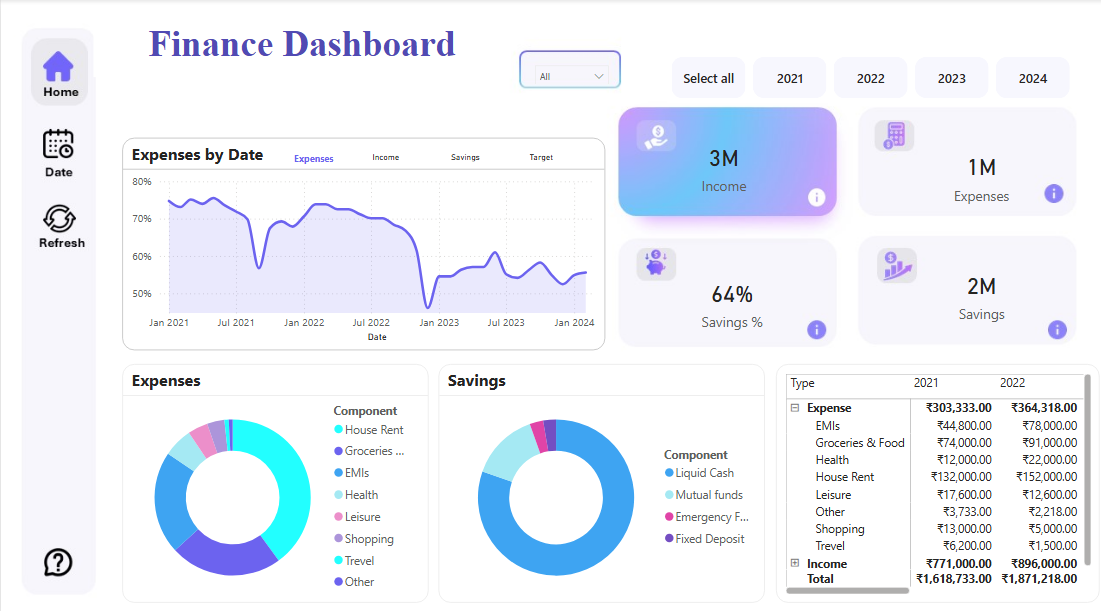

The dashboard page shown, as its layout file describes it:
{"tool":"powerbi","page":{"name":"HOME","canvas":[1280,720],"ordinal":0},"visuals":[{"type":"card","fields":{"Values":["Finance.Expenses"]},"box":[1094.1,164.8,85.7,79.1],"z":0},{"type":"card","fields":{"Values":["Finance.Income"]},"box":[795.2,158.3,85.7,71.3],"z":1000},{"type":"card","fields":{"Values":["Finance.Savings %"]},"box":[786.7,296.2,121.6,111.2],"z":2000},{"type":"card","fields":{"Values":["Finance.Savings"]},"box":[1072.5,286.4,129.5,109.9],"z":3000},{"type":"advancedSlicerVisual","fields":{"Values":["Finance.Year"]},"box":[772.3,62.1,472.8,58.2],"z":4000},{"type":"donutChart","title":"Savings","fields":{"Category":["Finance.Component"],"Y":["Finance.Savings"]},"box":[506.8,423.8,378.6,276.6],"z":5000},{"type":"donutChart","title":"Expenses","fields":{"Category":["Finance.Component"],"Y":["Finance.Expenses"]},"box":[141.3,423.1,355.1,276.6],"z":6000},{"type":"pivotTable","fields":{"Rows":["Finance.Type","Finance.Component"],"Values":["Finance.Total Value"],"Columns":["Finance.Year"]},"box":[897.9,423.8,375.4,276.6],"z":7000},{"type":"areaChart","fields":{"Category":["Finance.Date"],"Y":["Finance.Line_Chart_Measures"]},"box":[141.3,160.9,559.8,246.5],"z":8000},{"type":"advancedSlicerVisual","fields":{"Values":["Line Selection Table.Type"]},"box":[322.4,165.5,368.8,28.8],"z":9000},{"type":"textbox","box":[107.1,22.5,483.8,69.1],"z":10000},{"type":"slicer","fields":{"Values":["Finance.Month-Yr"]},"box":[608.2,67.4,105.9,32],"z":11000},{"type":"actionButton","box":[26.8,145.7,81.6,67.9],"z":12000},{"type":"actionButton","box":[26.8,237.3,81.3,64.6],"z":14000}]}

Visuals, with their boxes on the page's 1280x720 design canvas (x1, y1, x2, y2). These are canvas units, not pixel positions in the 1101x611 screenshot, which may show the page scaled, cropped or inside an application window:
card - Finance.Expenses: left=1094, top=165, right=1180, bottom=244
card - Finance.Income: left=795, top=158, right=881, bottom=230
card - Finance.Savings %: left=787, top=296, right=908, bottom=407
card - Finance.Savings: left=1072, top=286, right=1202, bottom=396
advancedSlicerVisual - Finance.Year: left=772, top=62, right=1245, bottom=120
"Savings" donutChart: left=507, top=424, right=885, bottom=700
"Expenses" donutChart: left=141, top=423, right=496, bottom=700
pivotTable - Finance.Type x Finance.Component: left=898, top=424, right=1273, bottom=700
areaChart - Finance.Date x Finance.Line_Chart_Measures: left=141, top=161, right=701, bottom=407
advancedSlicerVisual - Line Selection Table.Type: left=322, top=166, right=691, bottom=194
textbox: left=107, top=22, right=591, bottom=92
slicer - Finance.Month-Yr: left=608, top=67, right=714, bottom=99
actionButton: left=27, top=146, right=108, bottom=214
actionButton: left=27, top=237, right=108, bottom=302
